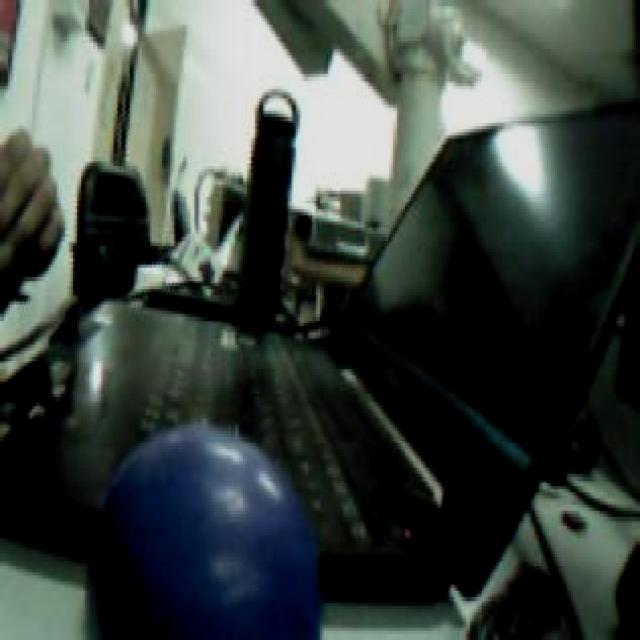BallPurple: (90, 424, 323, 640)
